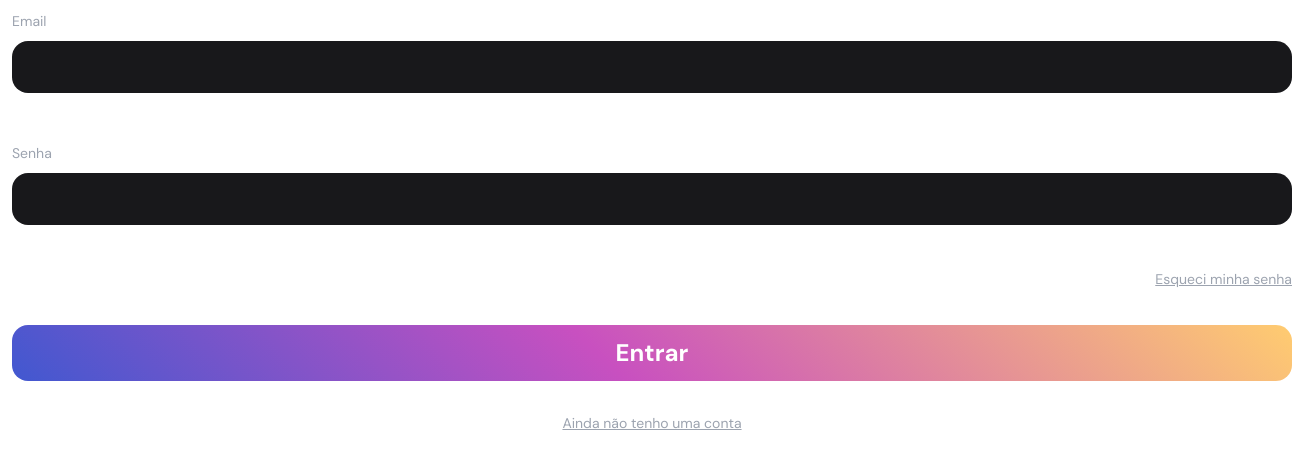
Test: LoginForm › should display error messages › case submiting with empty fields
This screenshot has width=1304, height=459.
Step 1. Click the button "Entrar" → (652, 353), box [12,325,1292,381]
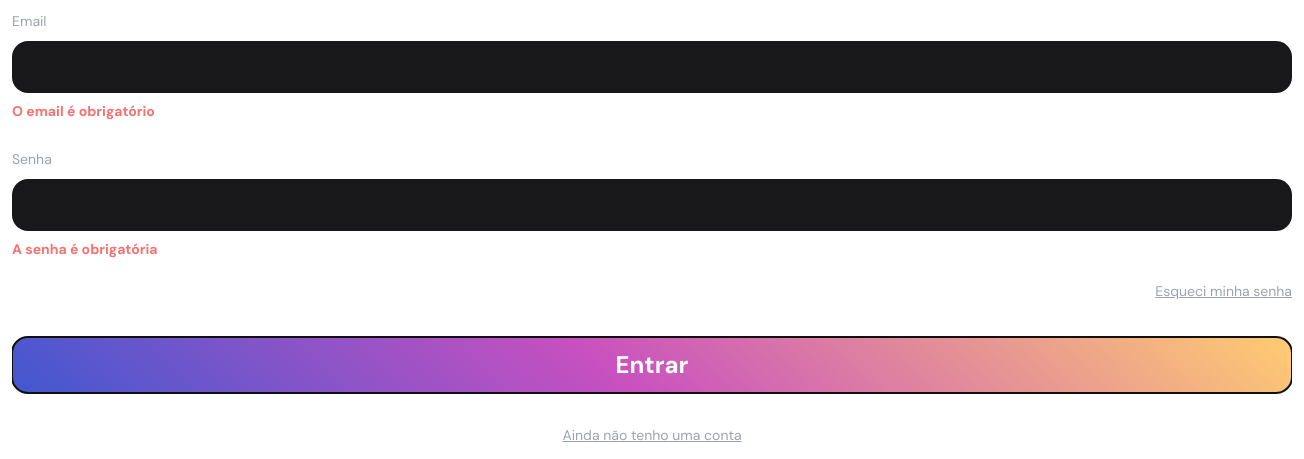
Now the text "O email é obrigatório" is shown, box [12,101,155,121]
Now the text "A senha é obrigatória" is shown, box [12,239,158,259]
